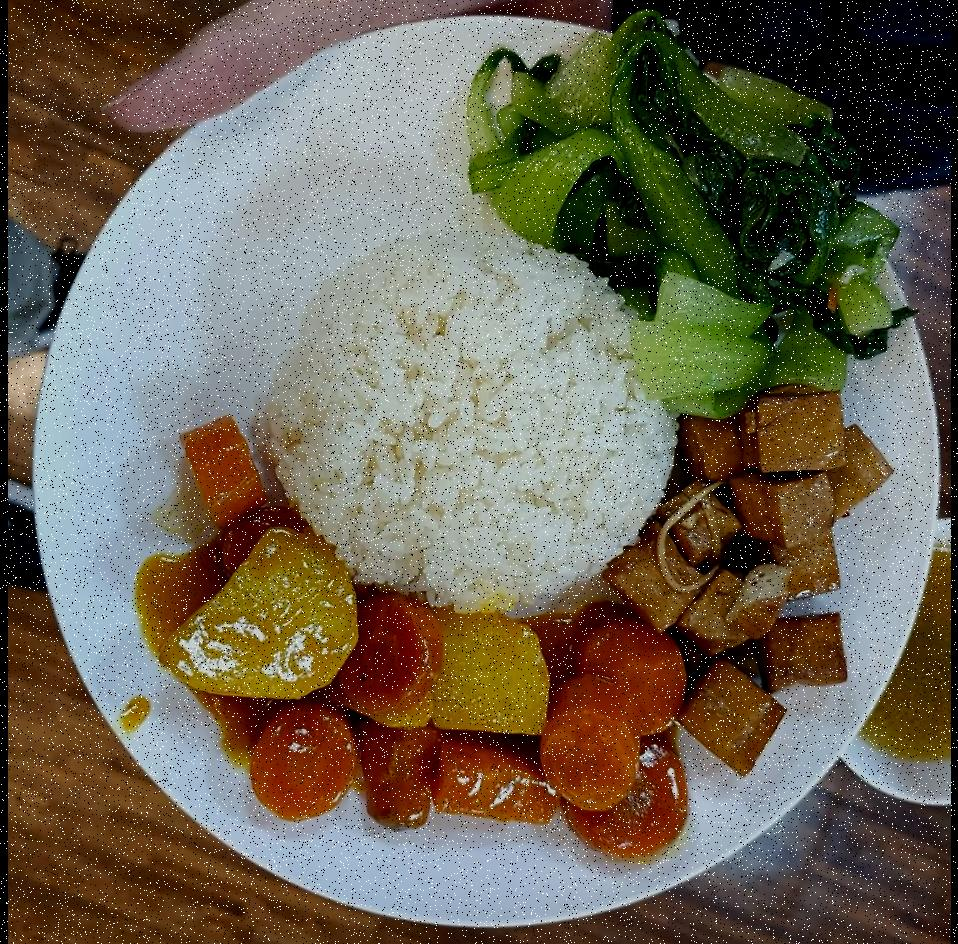plate: (38, 27, 930, 938)
side dish: (157, 516, 686, 870), (501, 27, 909, 402), (619, 370, 900, 760)
white rice: (270, 229, 685, 614)
